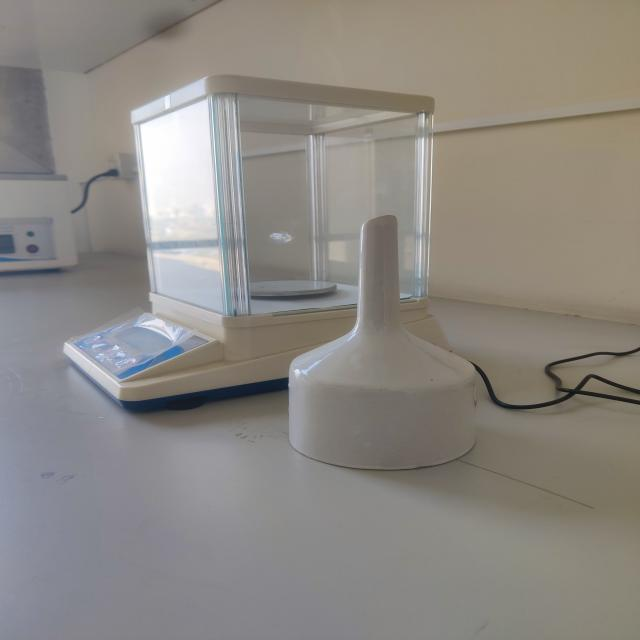Buchner_Funnel: (259, 198, 519, 498)
